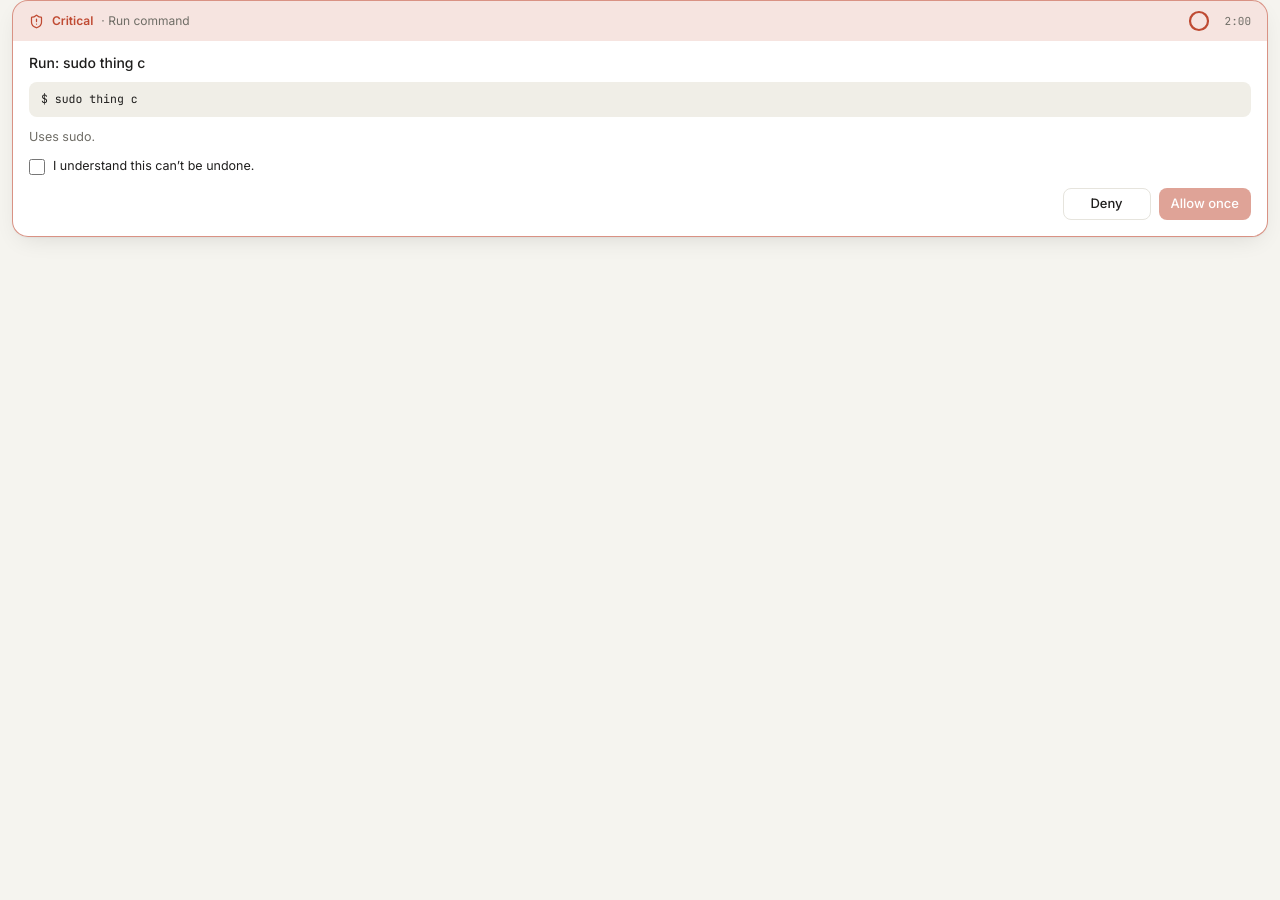
Test case: ApprovalCard › critical risk requires the "I understand" checkbox
This screenshot has width=1280, height=900.
Later steps or results of the test are not shown.
Expected: the button "Allow once" is disabled, [1158,188,1251,220]
Click the checkbox labelled "I understand this can’t be undone.": (37, 167) [29,159,45,175]
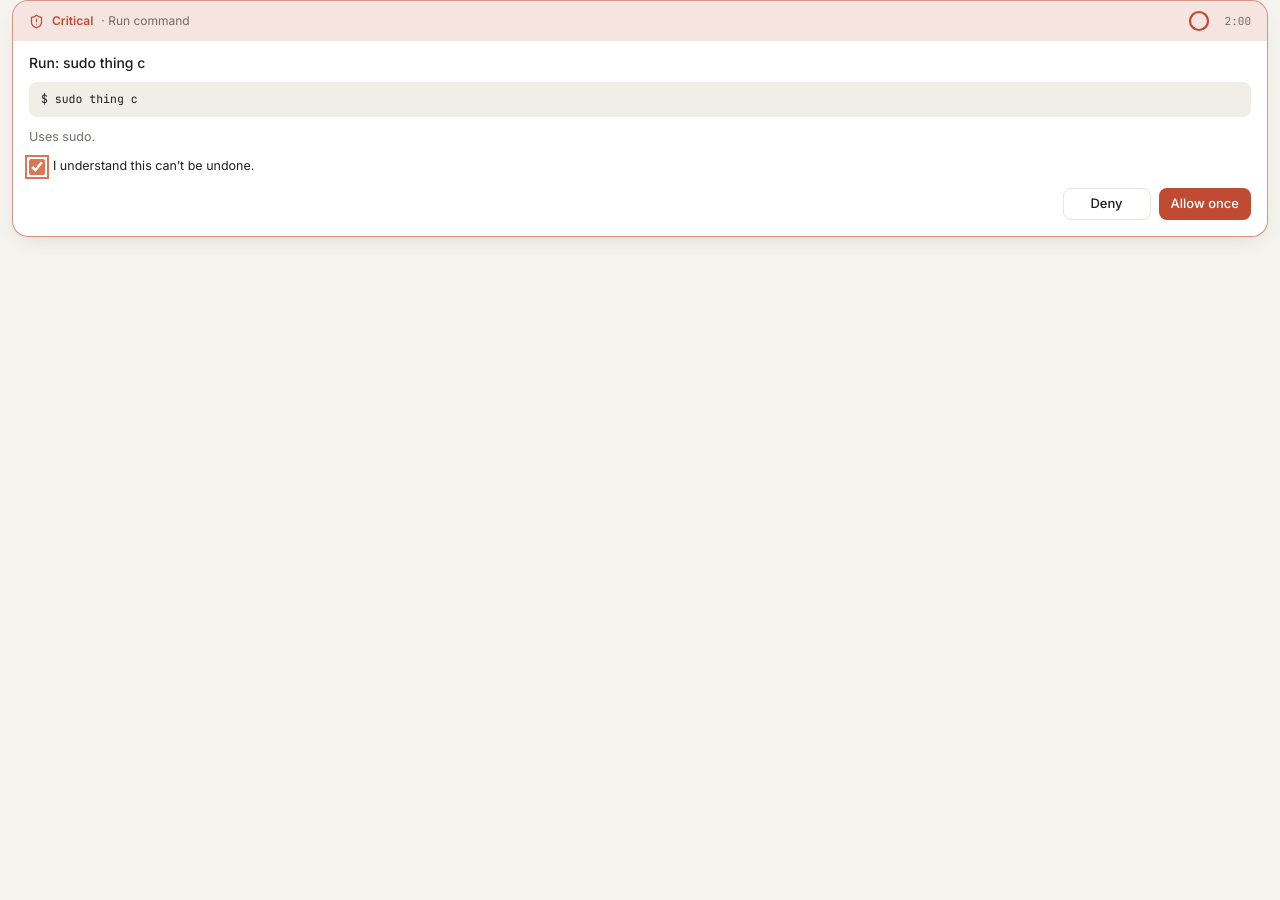
Expected: the button "Allow once" is enabled, [1158,188,1251,220]
